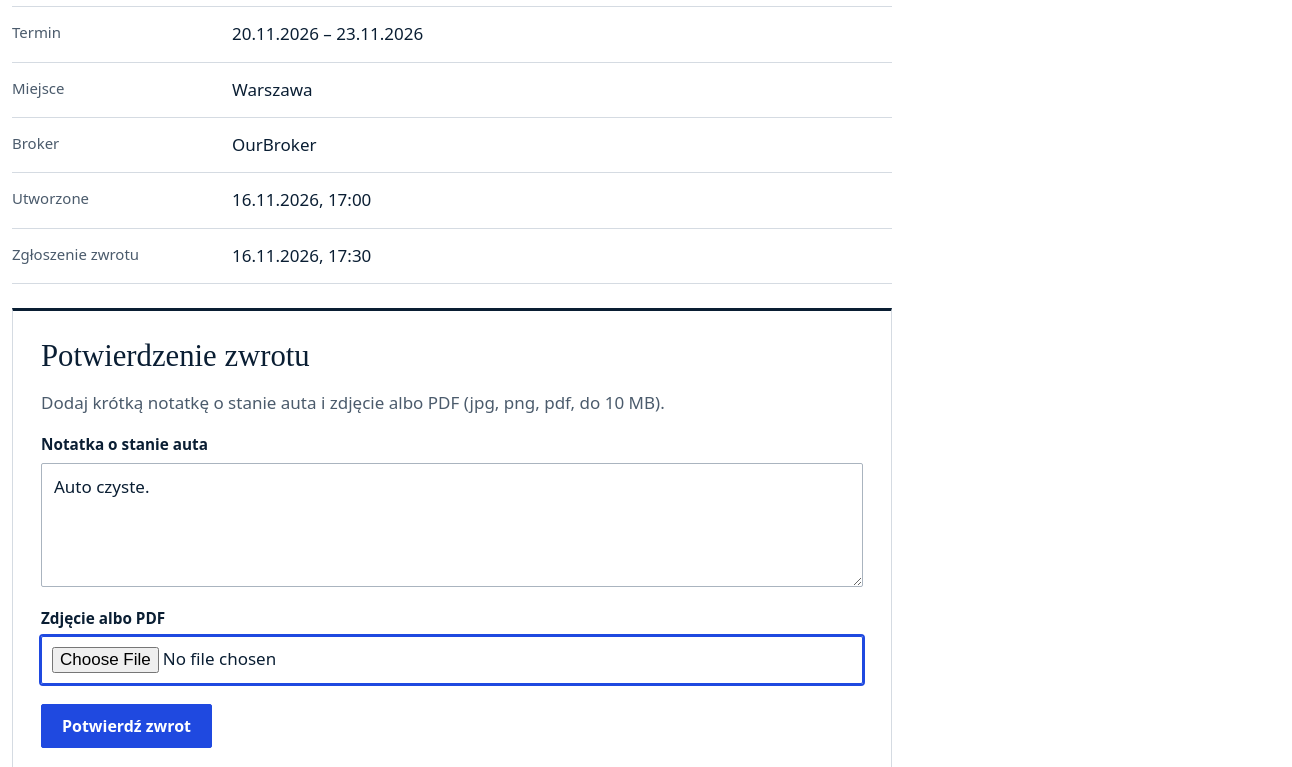
Test: Panel pracownika › szczegóły: potwierdzenie zwrotu idzie jako multipart z X-CSRF i odświeża status
Earlier steps of the test are not shown.
(page scrolled)
What coordinates should you click on to do the following:
click the button "Potwierdź zwrot"
I would click on:
 (126, 726)
Its box is [41,704,212,748].
(page scrolled)
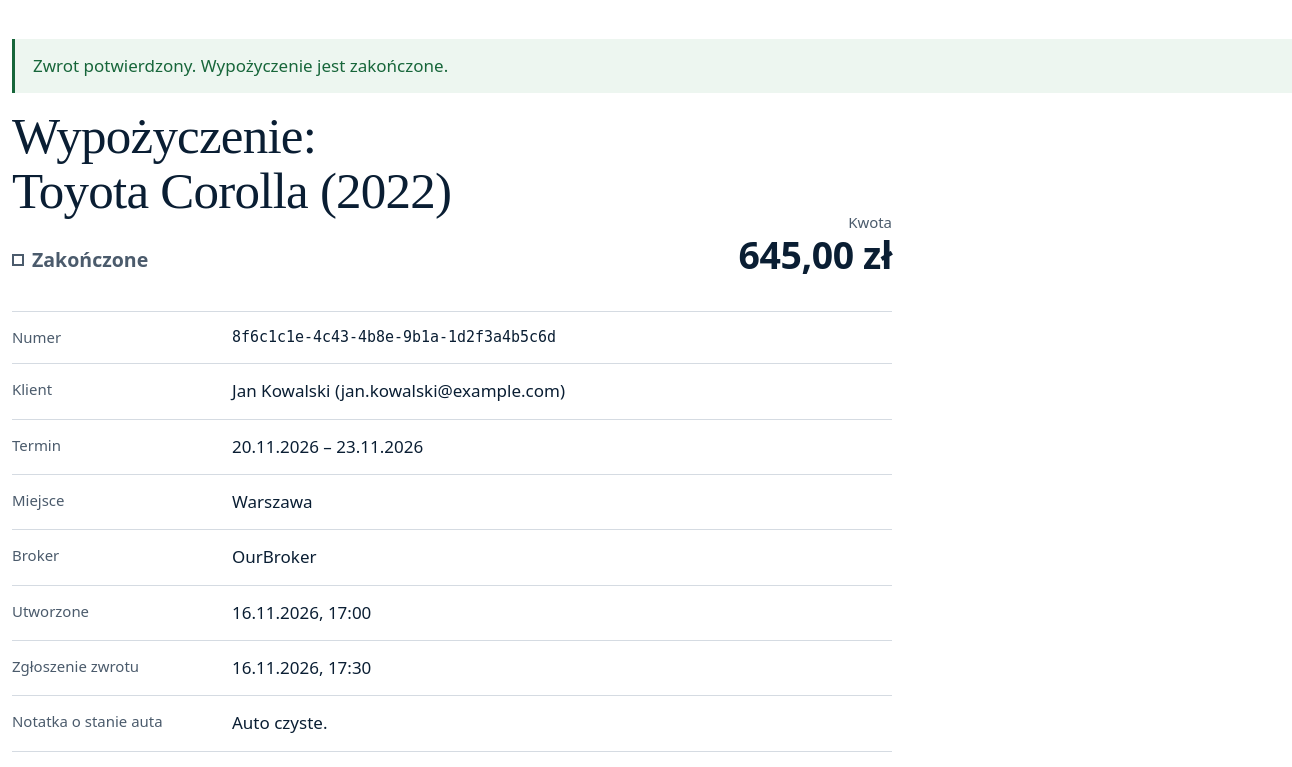
Now the text "Zwrot potwierdzony. Wypożyczenie jest zakończone." is shown, box [12,39,1291,93]
Now the text "Auto czyste." is shown, box [232,696,892,752]
